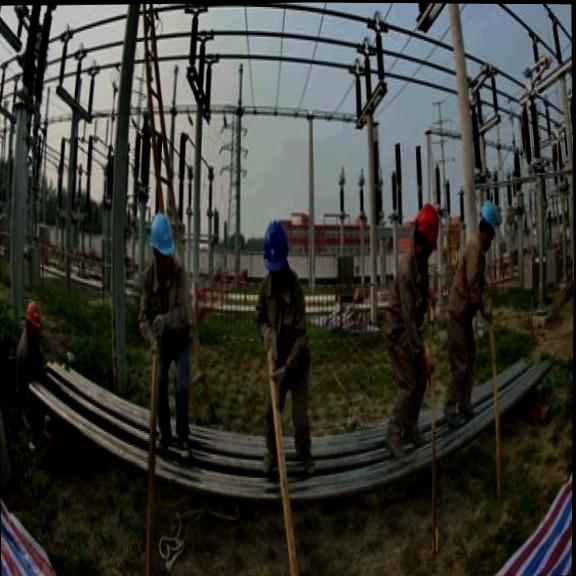no_safety_vest: (455, 248, 497, 346), (143, 279, 188, 363), (391, 255, 431, 345), (267, 306, 308, 382)
